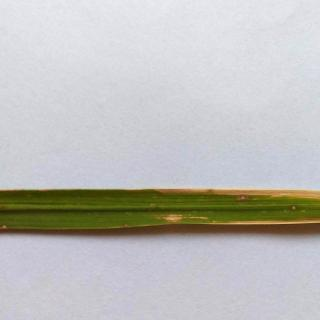Blast: (144, 202, 212, 228), (280, 200, 302, 214), (235, 192, 253, 208)
